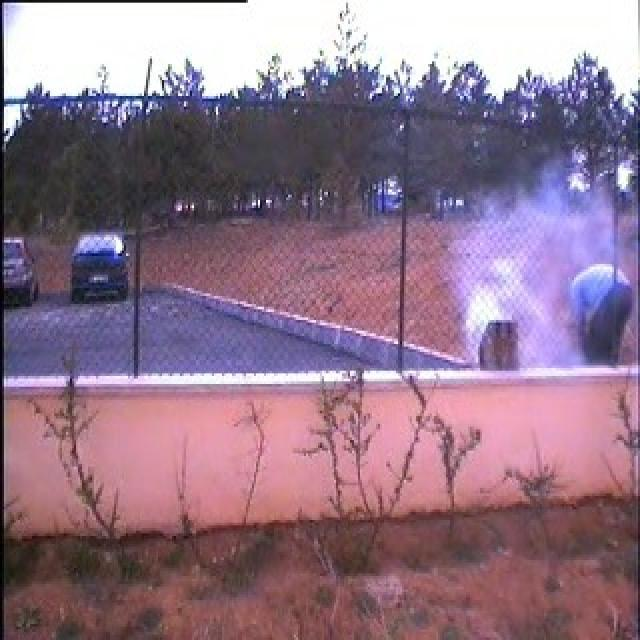Smoke: (457, 164, 614, 369)
